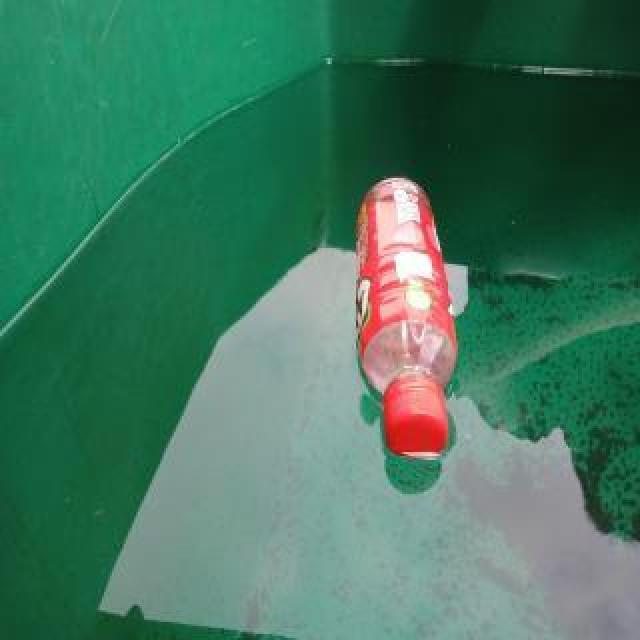bottle: (354, 175, 460, 459)
